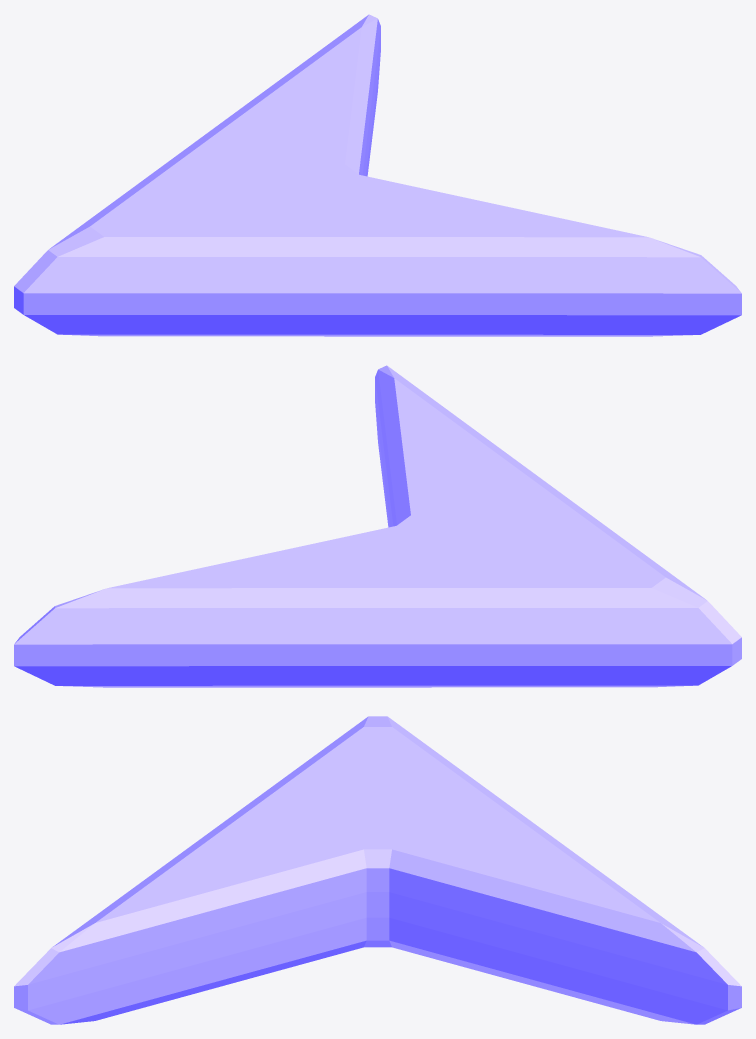
The model's file is navArrow 1.glb.
3 views of the same model, one above another, from view 1: azimuth 30°, elevation 25°; view 2: azimuth 150°, elevation 25°; view 3: azimuth 270°, elevation 25° (orthographic).
Visible parts, largest first — view 1: Plane; view 2: Plane; view 3: Plane.
Boxes of the visible parts, box(x1,y1,x2,y2) form: Plane: box(14, 14, 741, 336); Plane: box(14, 365, 741, 687); Plane: box(14, 716, 741, 1024).
Bounding box in the file's own units: 1.09 × 0.1921 × 1.29.
